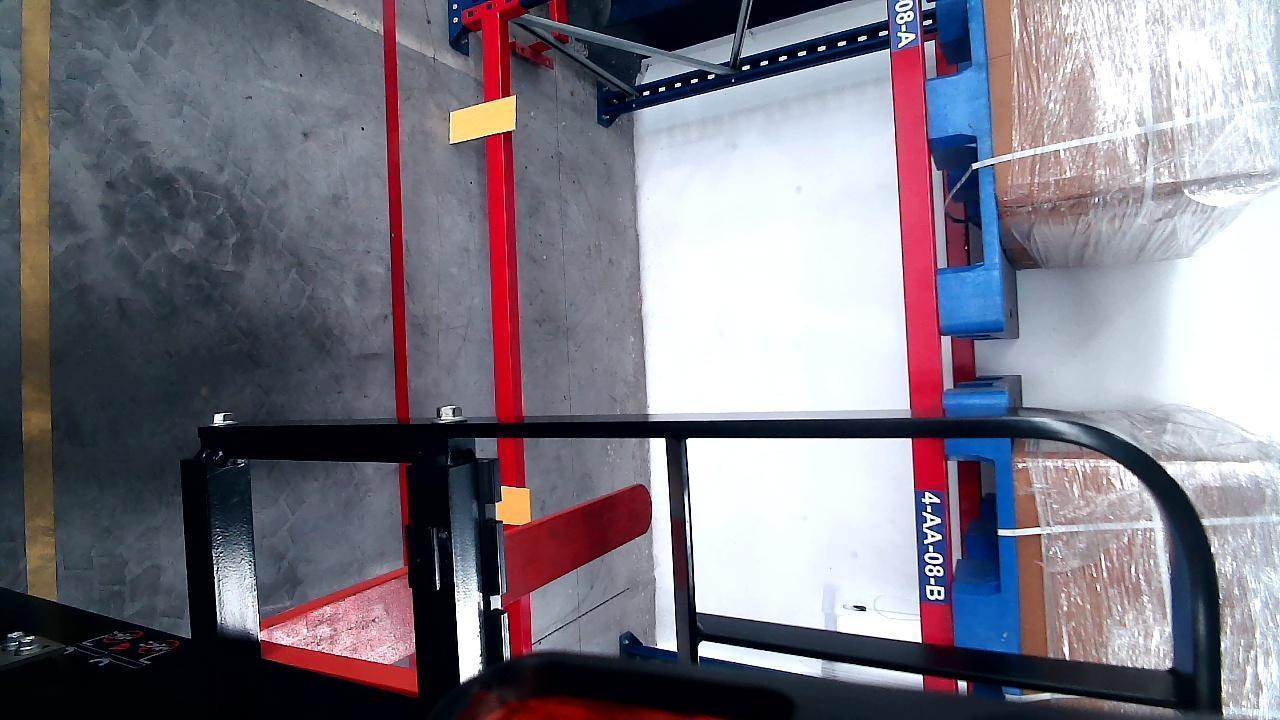red_line: (382, 0, 412, 420)
yellow_line: (18, 2, 55, 602)
